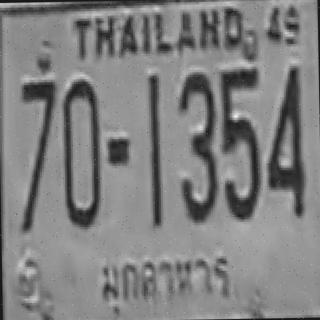N01: (146, 73, 160, 184), (146, 72, 160, 174)
N03: (176, 79, 218, 220)
N04: (264, 63, 304, 216)
N05: (220, 66, 258, 152)
N07: (20, 80, 56, 160)
P26: (91, 242, 240, 320)
